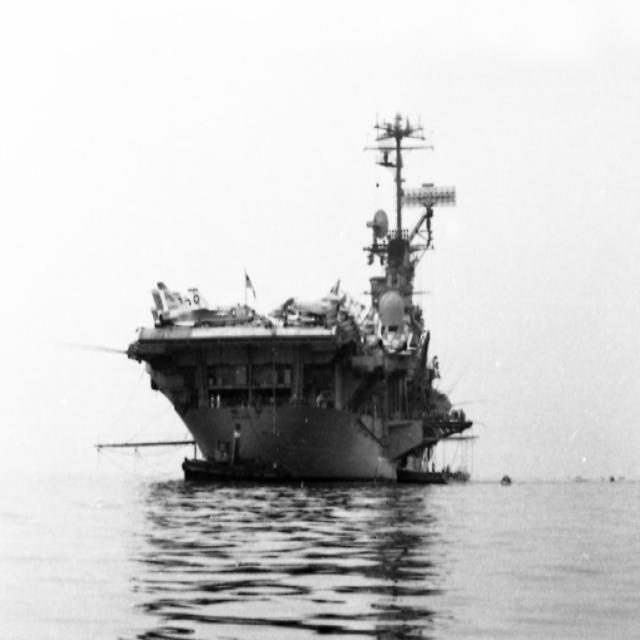Portanaves: (121, 104, 481, 500)
